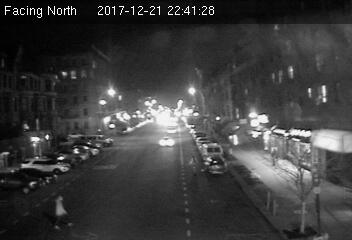car: (205, 156, 228, 175), (158, 136, 176, 146)
truck: (201, 144, 223, 156)
